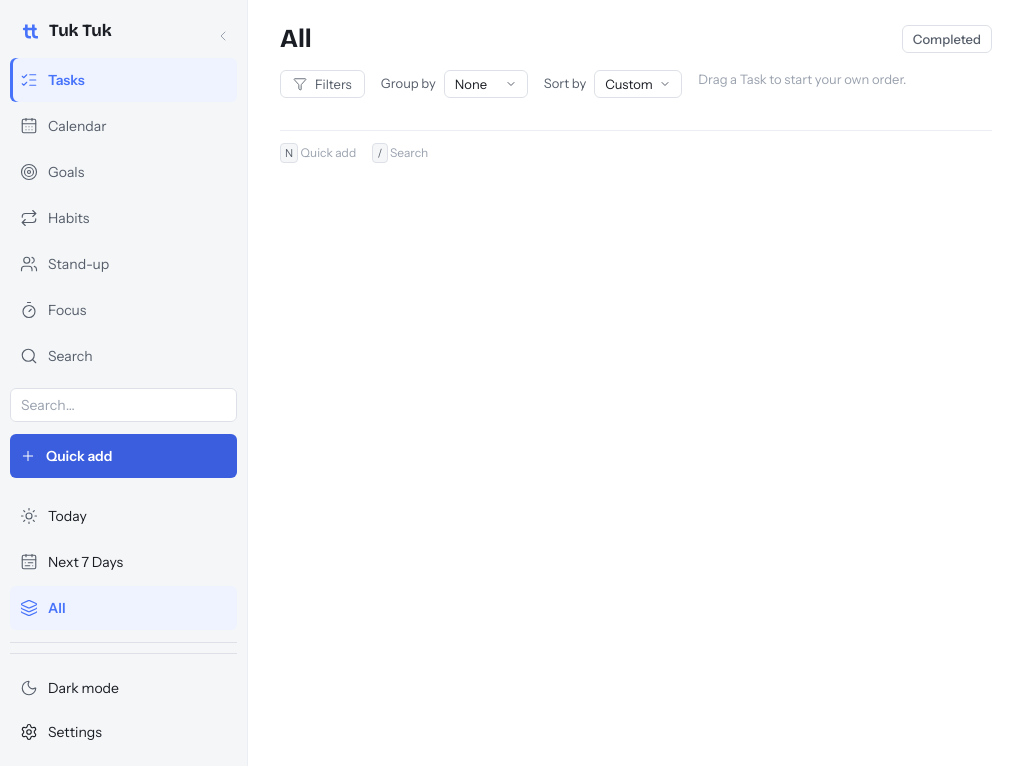
it: Assist settings (ADR 0005) › offers no Remove action when nothing is configured yet
Click the link "Settings": (61, 732) [20,722,102,741]
(page scrolled)
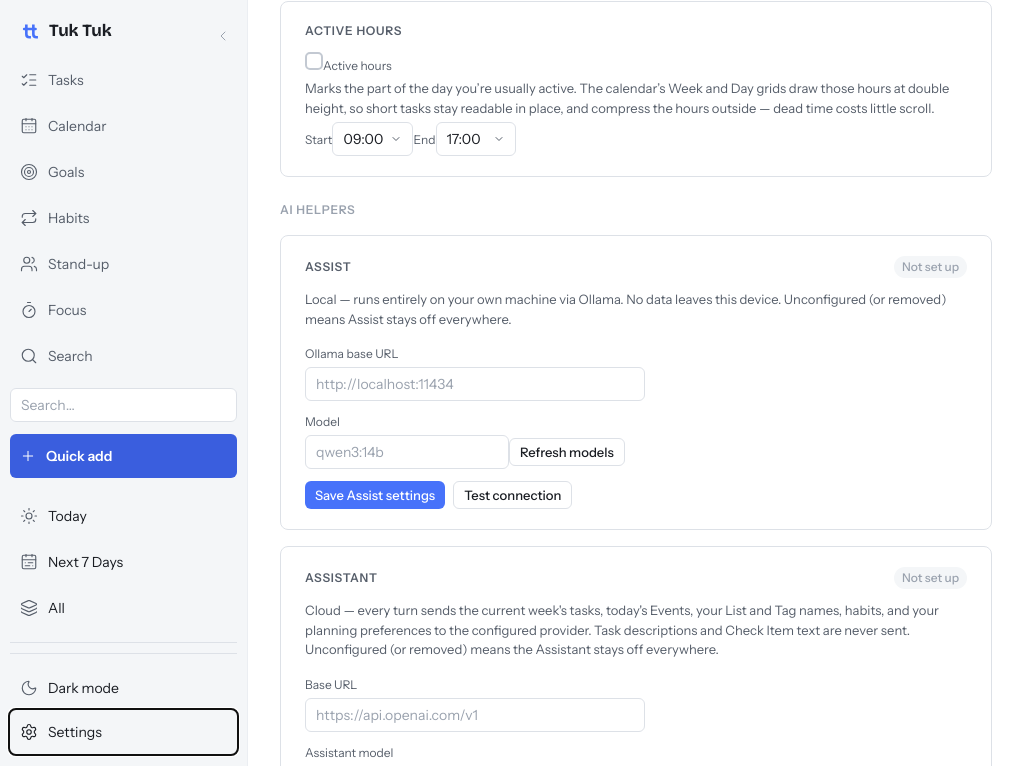
Check: the field labelled "Ollama base URL" is shown, box [305,367,645,401]
